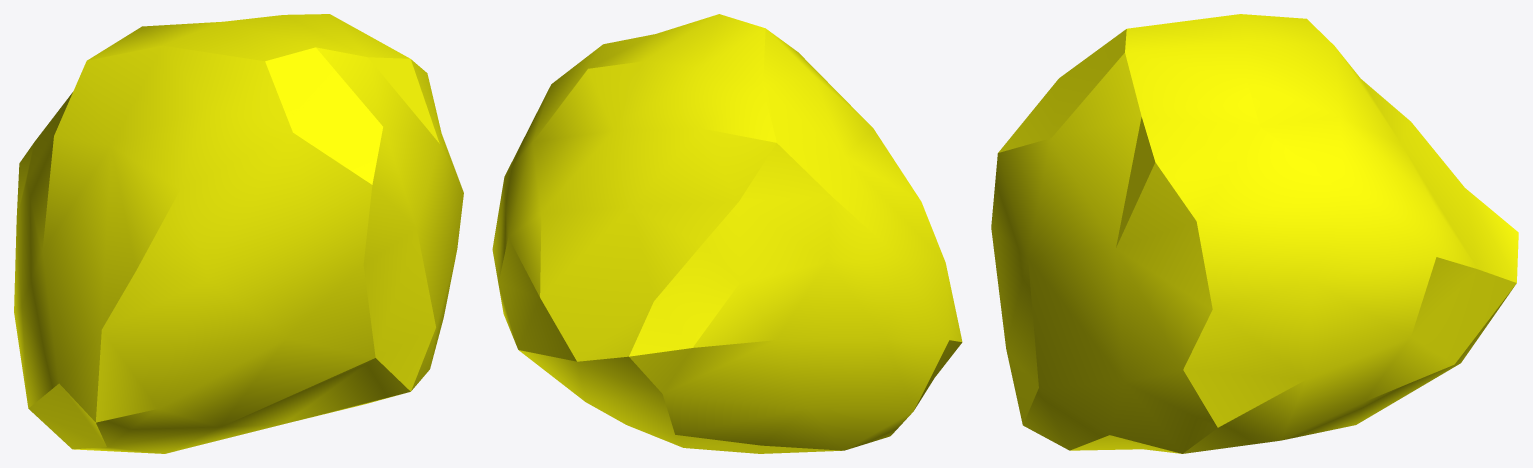
File: kaykit-rock-3-k-color-1.glb
The picture shows the model from 3 angles, left to right: view 1: azimuth 30°, elevation 25°; view 2: azimuth 150°, elevation 25°; view 3: azimuth 270°, elevation 25°; orthographic projection. The views are drawn at different scales.
Parts seen in each view (by area): view 1: Rock_3_K_Color1; view 2: Rock_3_K_Color1; view 3: Rock_3_K_Color1.
Boxes of the visible parts, box(x1,y1,x2,y2) form: Rock_3_K_Color1: box(14, 14, 463, 453); Rock_3_K_Color1: box(492, 14, 962, 453); Rock_3_K_Color1: box(991, 14, 1518, 453).
Size of the model in its own units: 2.61 by 2.22 by 2.59.
